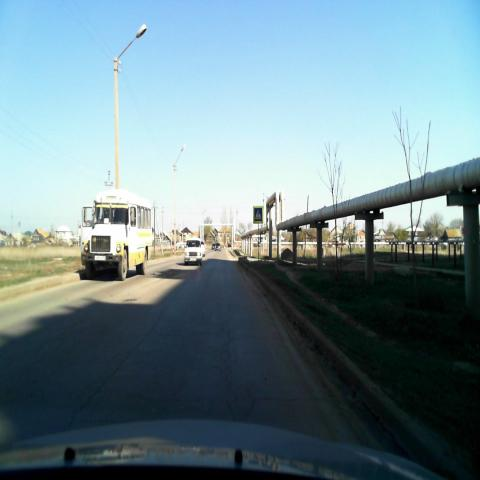5_19_1: (253, 206, 263, 224)
